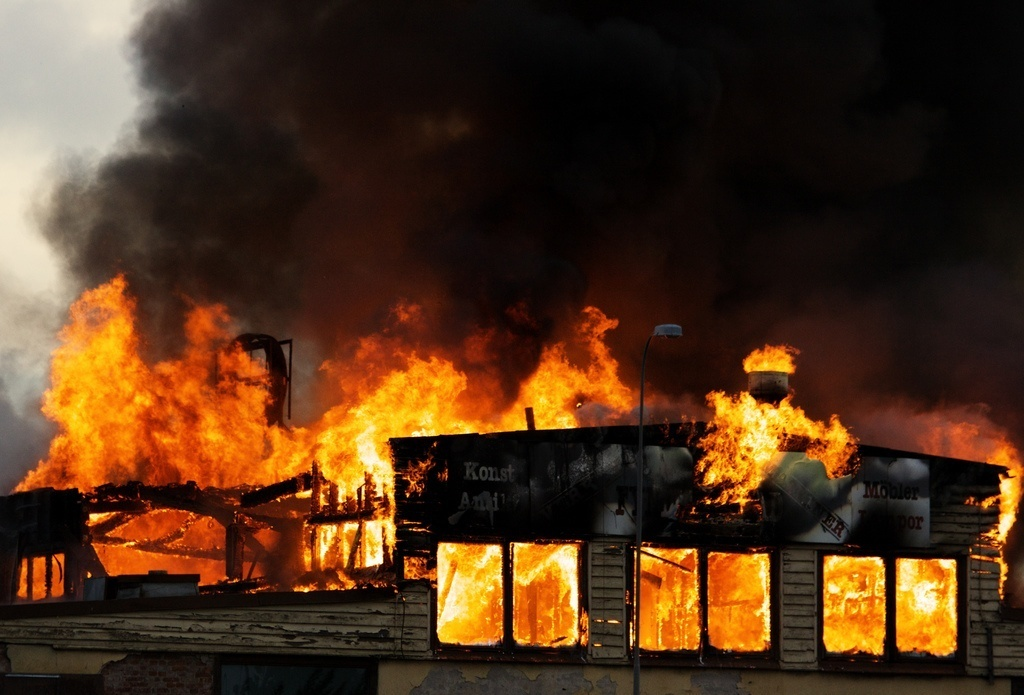fire: (692, 343, 854, 516), (437, 537, 586, 647), (633, 548, 771, 653), (820, 551, 957, 656)
